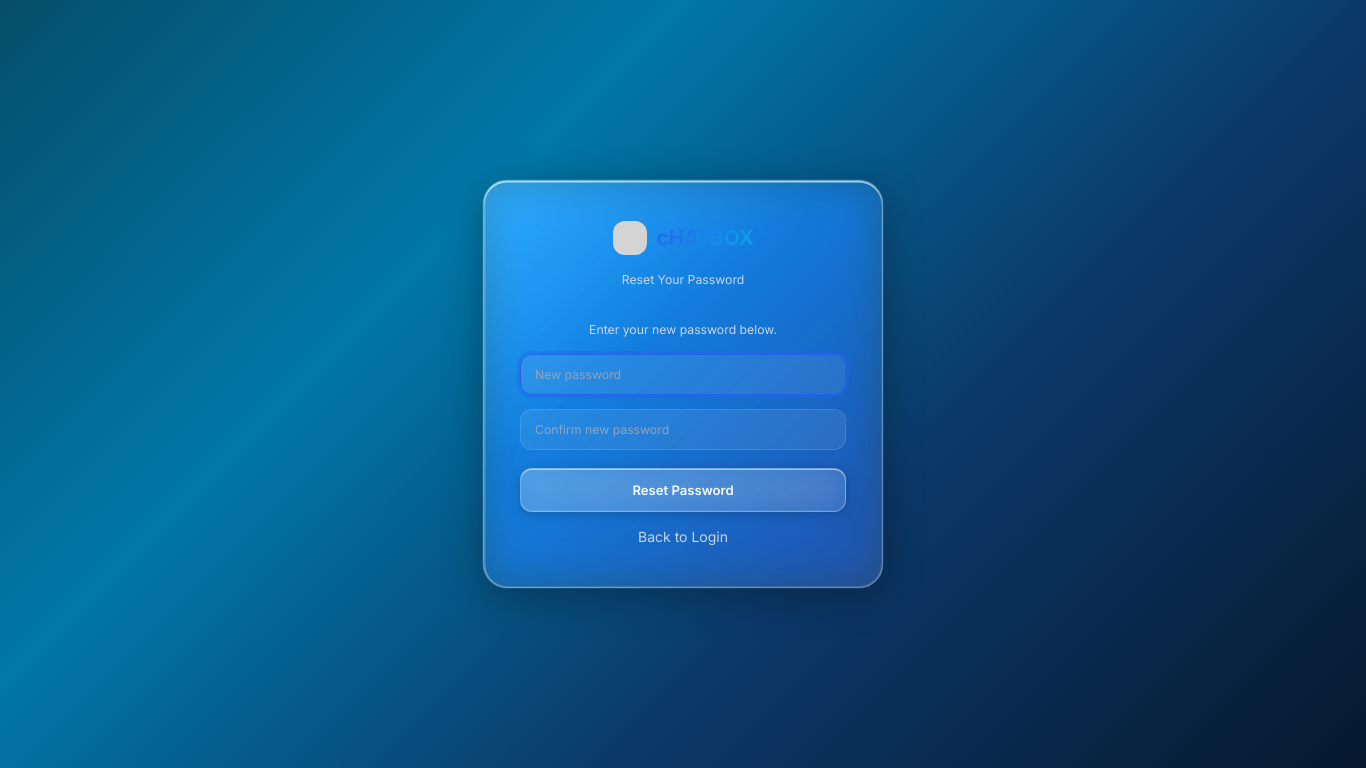
Test: ResetPasswordPage › shows error when password is too short
Type "abc" into the password field with test id "reset-new-password" at (683, 374), box [520, 354, 846, 395]
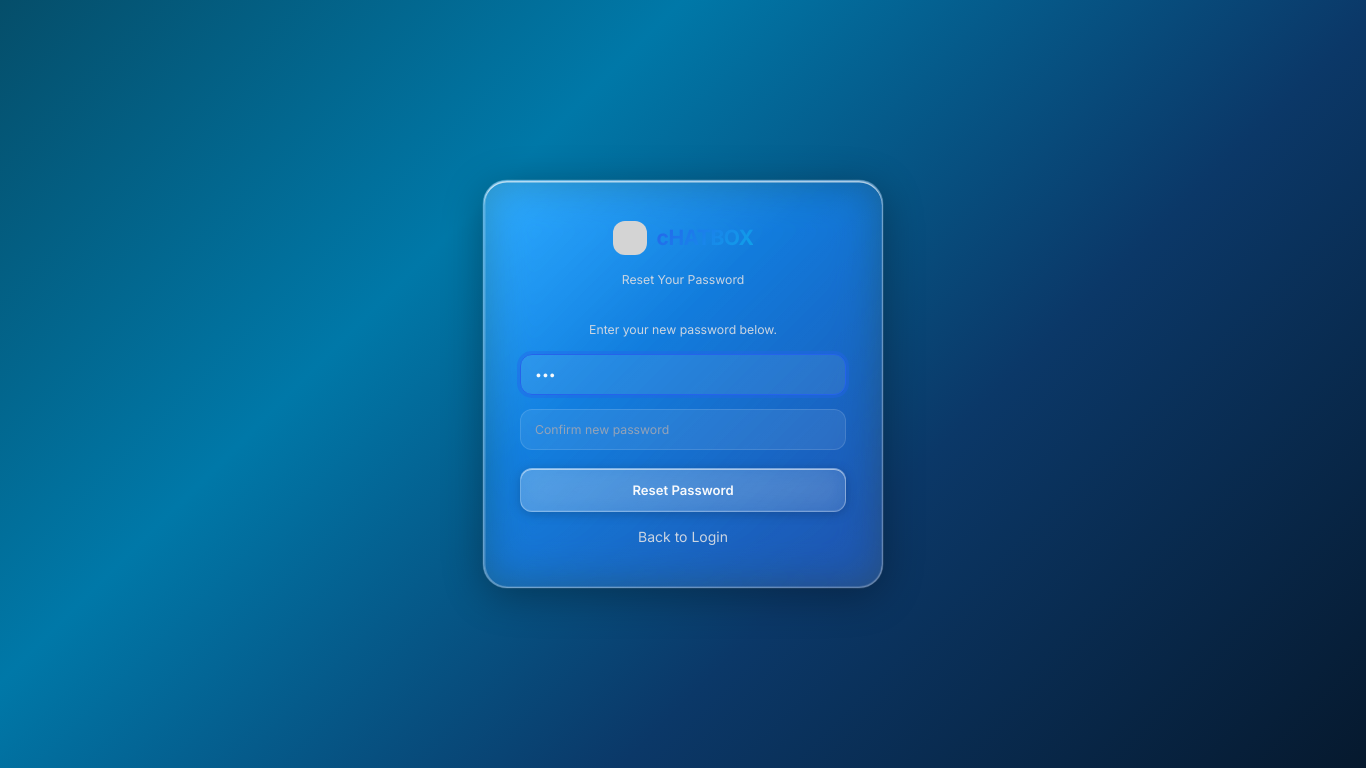
Type "abc" into the password field with test id "reset-confirm-password" at (683, 429), box [520, 409, 846, 450]
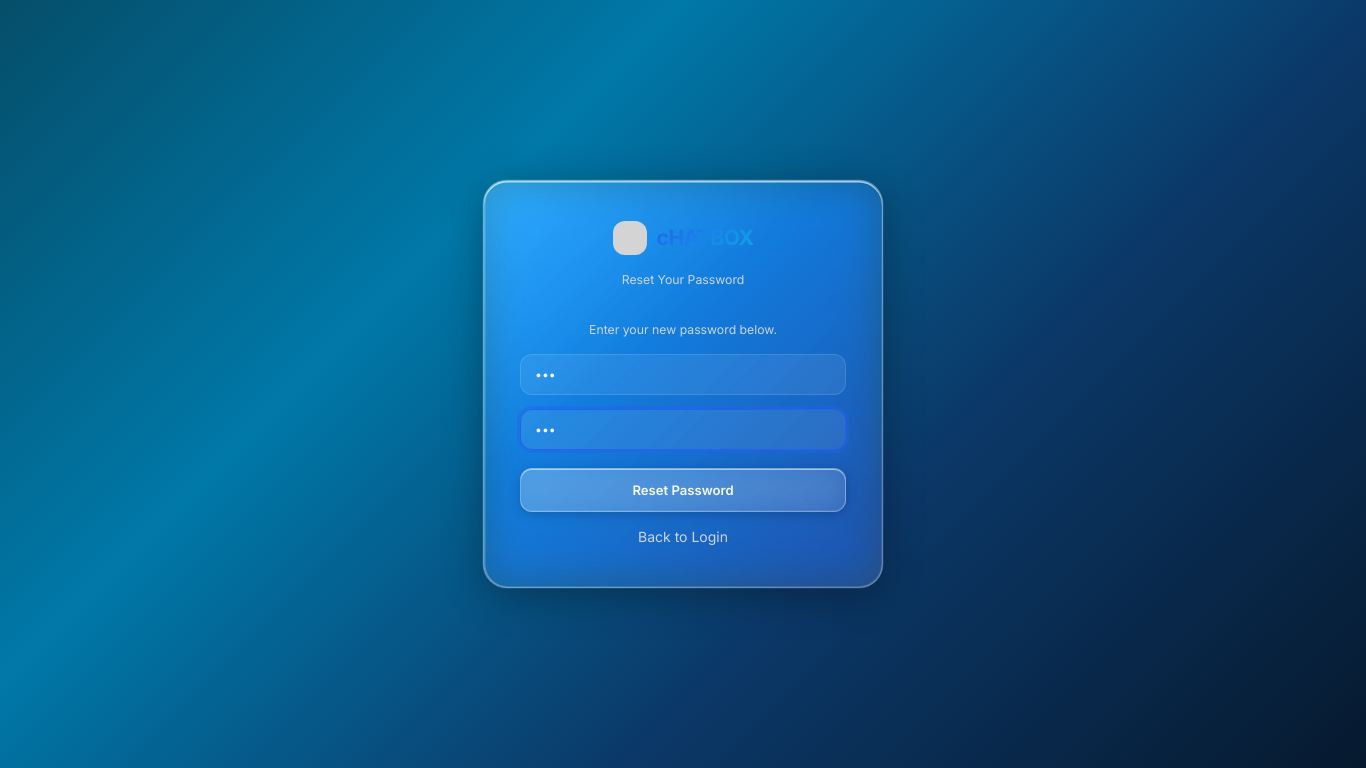
Click the button "Reset Password" at (683, 490), box [520, 468, 846, 512]
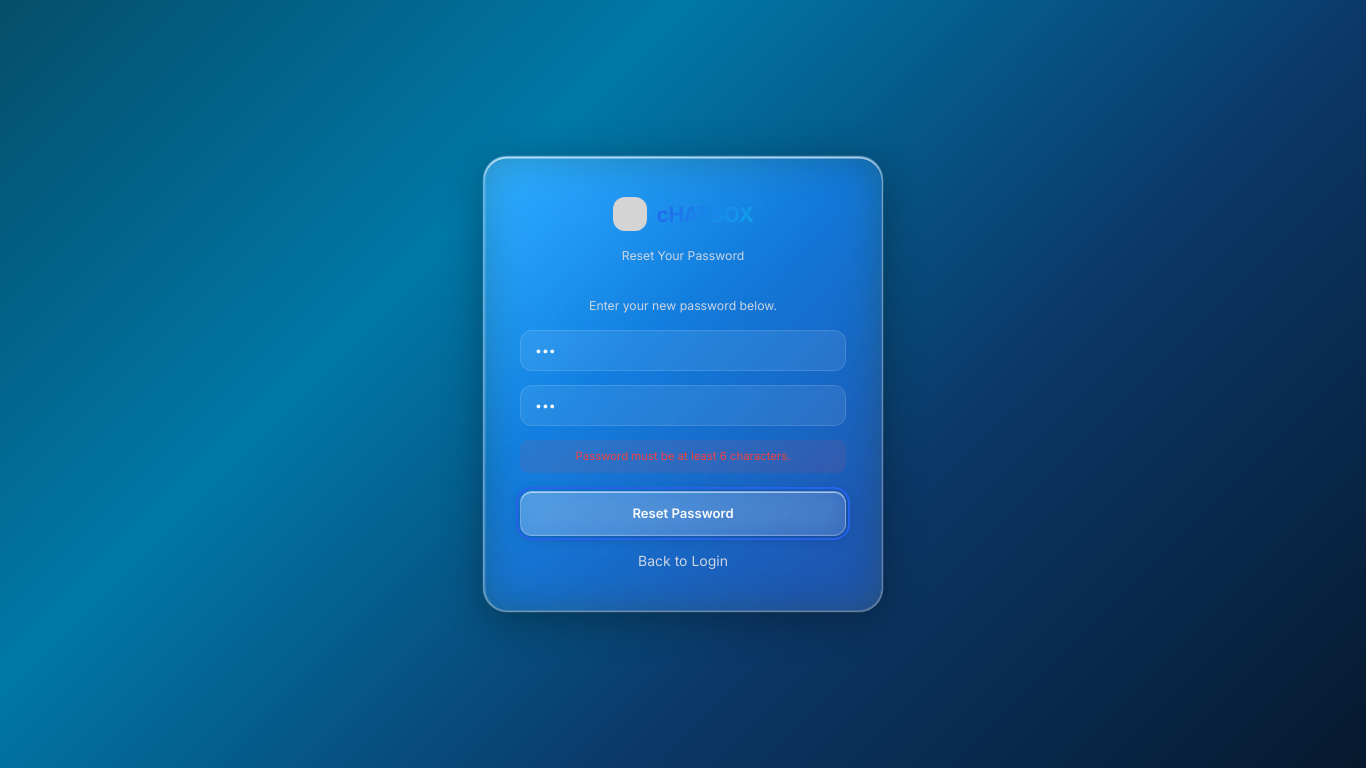
Expected: the text "Password must be at least 6 characters." is shown, [520, 440, 846, 473]
